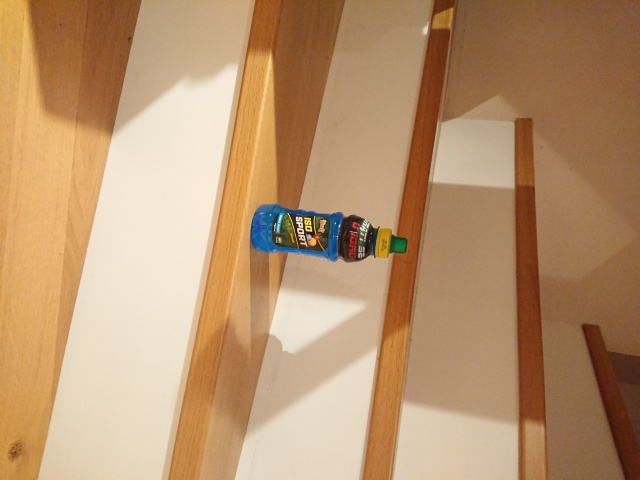Vindi Iso Sport Forest Strawberries 500mL: (248, 201, 408, 263)
